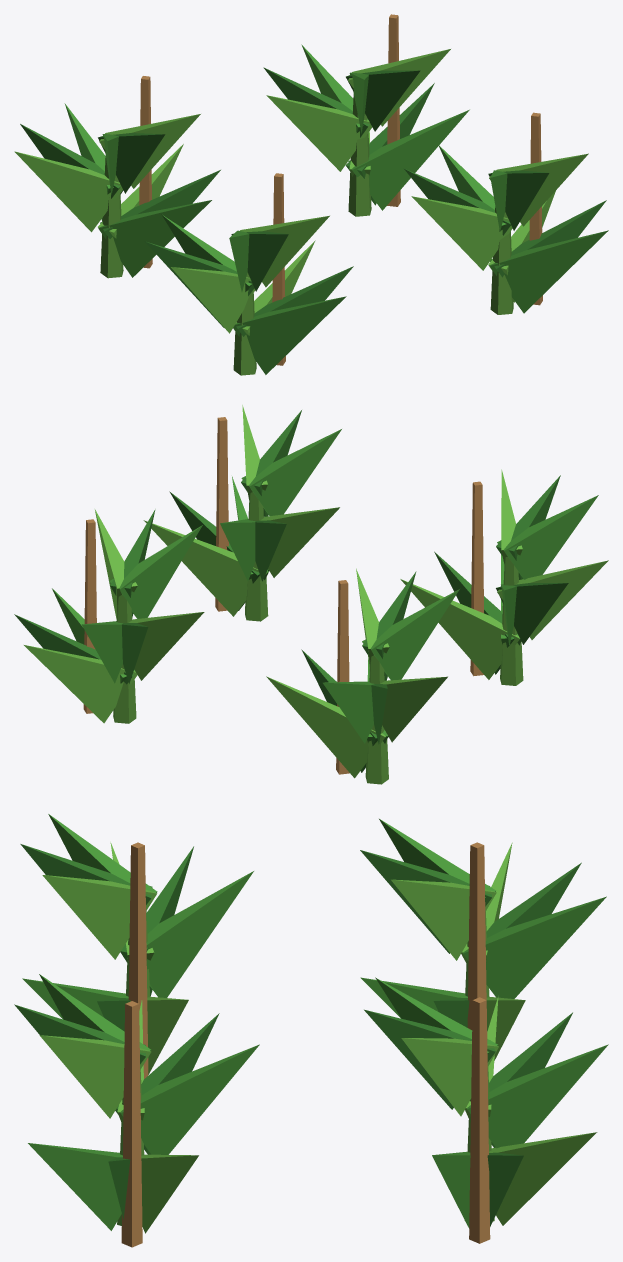
The model's file is tomato-2.glb.
3 renders of one model, top to bottom at view 1: azimuth 30°, elevation 25°; view 2: azimuth 150°, elevation 25°; view 3: azimuth 270°, elevation 25°, orthographic. The views are drawn at different scales.
Parts seen in each view (by area): view 1: tomato-2; view 2: tomato-2; view 3: tomato-2.
Part boxes in pixels (left/top/right/bottom): tomato-2: left=14, top=14, right=608, bottom=375; tomato-2: left=14, top=405, right=608, bottom=784; tomato-2: left=14, top=814, right=608, bottom=1247.
Bounding box in the file's own units: 0.7295 × 0.3009 × 0.6762.
1 material, 1 textured.
